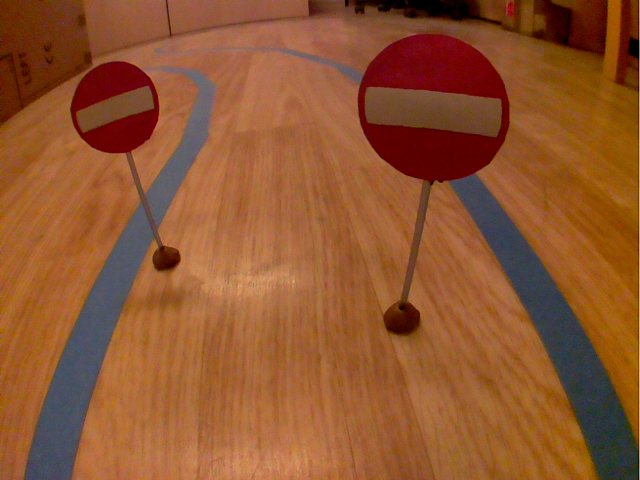Zakaz: (353, 28, 515, 190), (67, 56, 163, 157)
